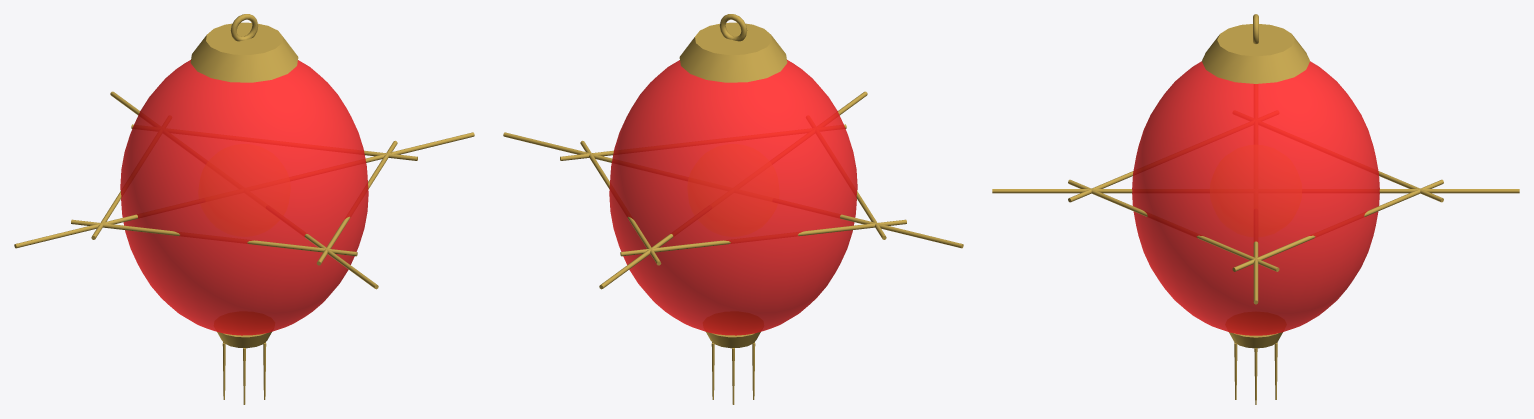
Rendered from lantern.glb.
3 views of the same model, side by side, from view 1: azimuth 30°, elevation 25°; view 2: azimuth 150°, elevation 25°; view 3: azimuth 270°, elevation 25° (orthographic).
Size of the model in its own units: 3.4 by 2.7 by 3.4.
